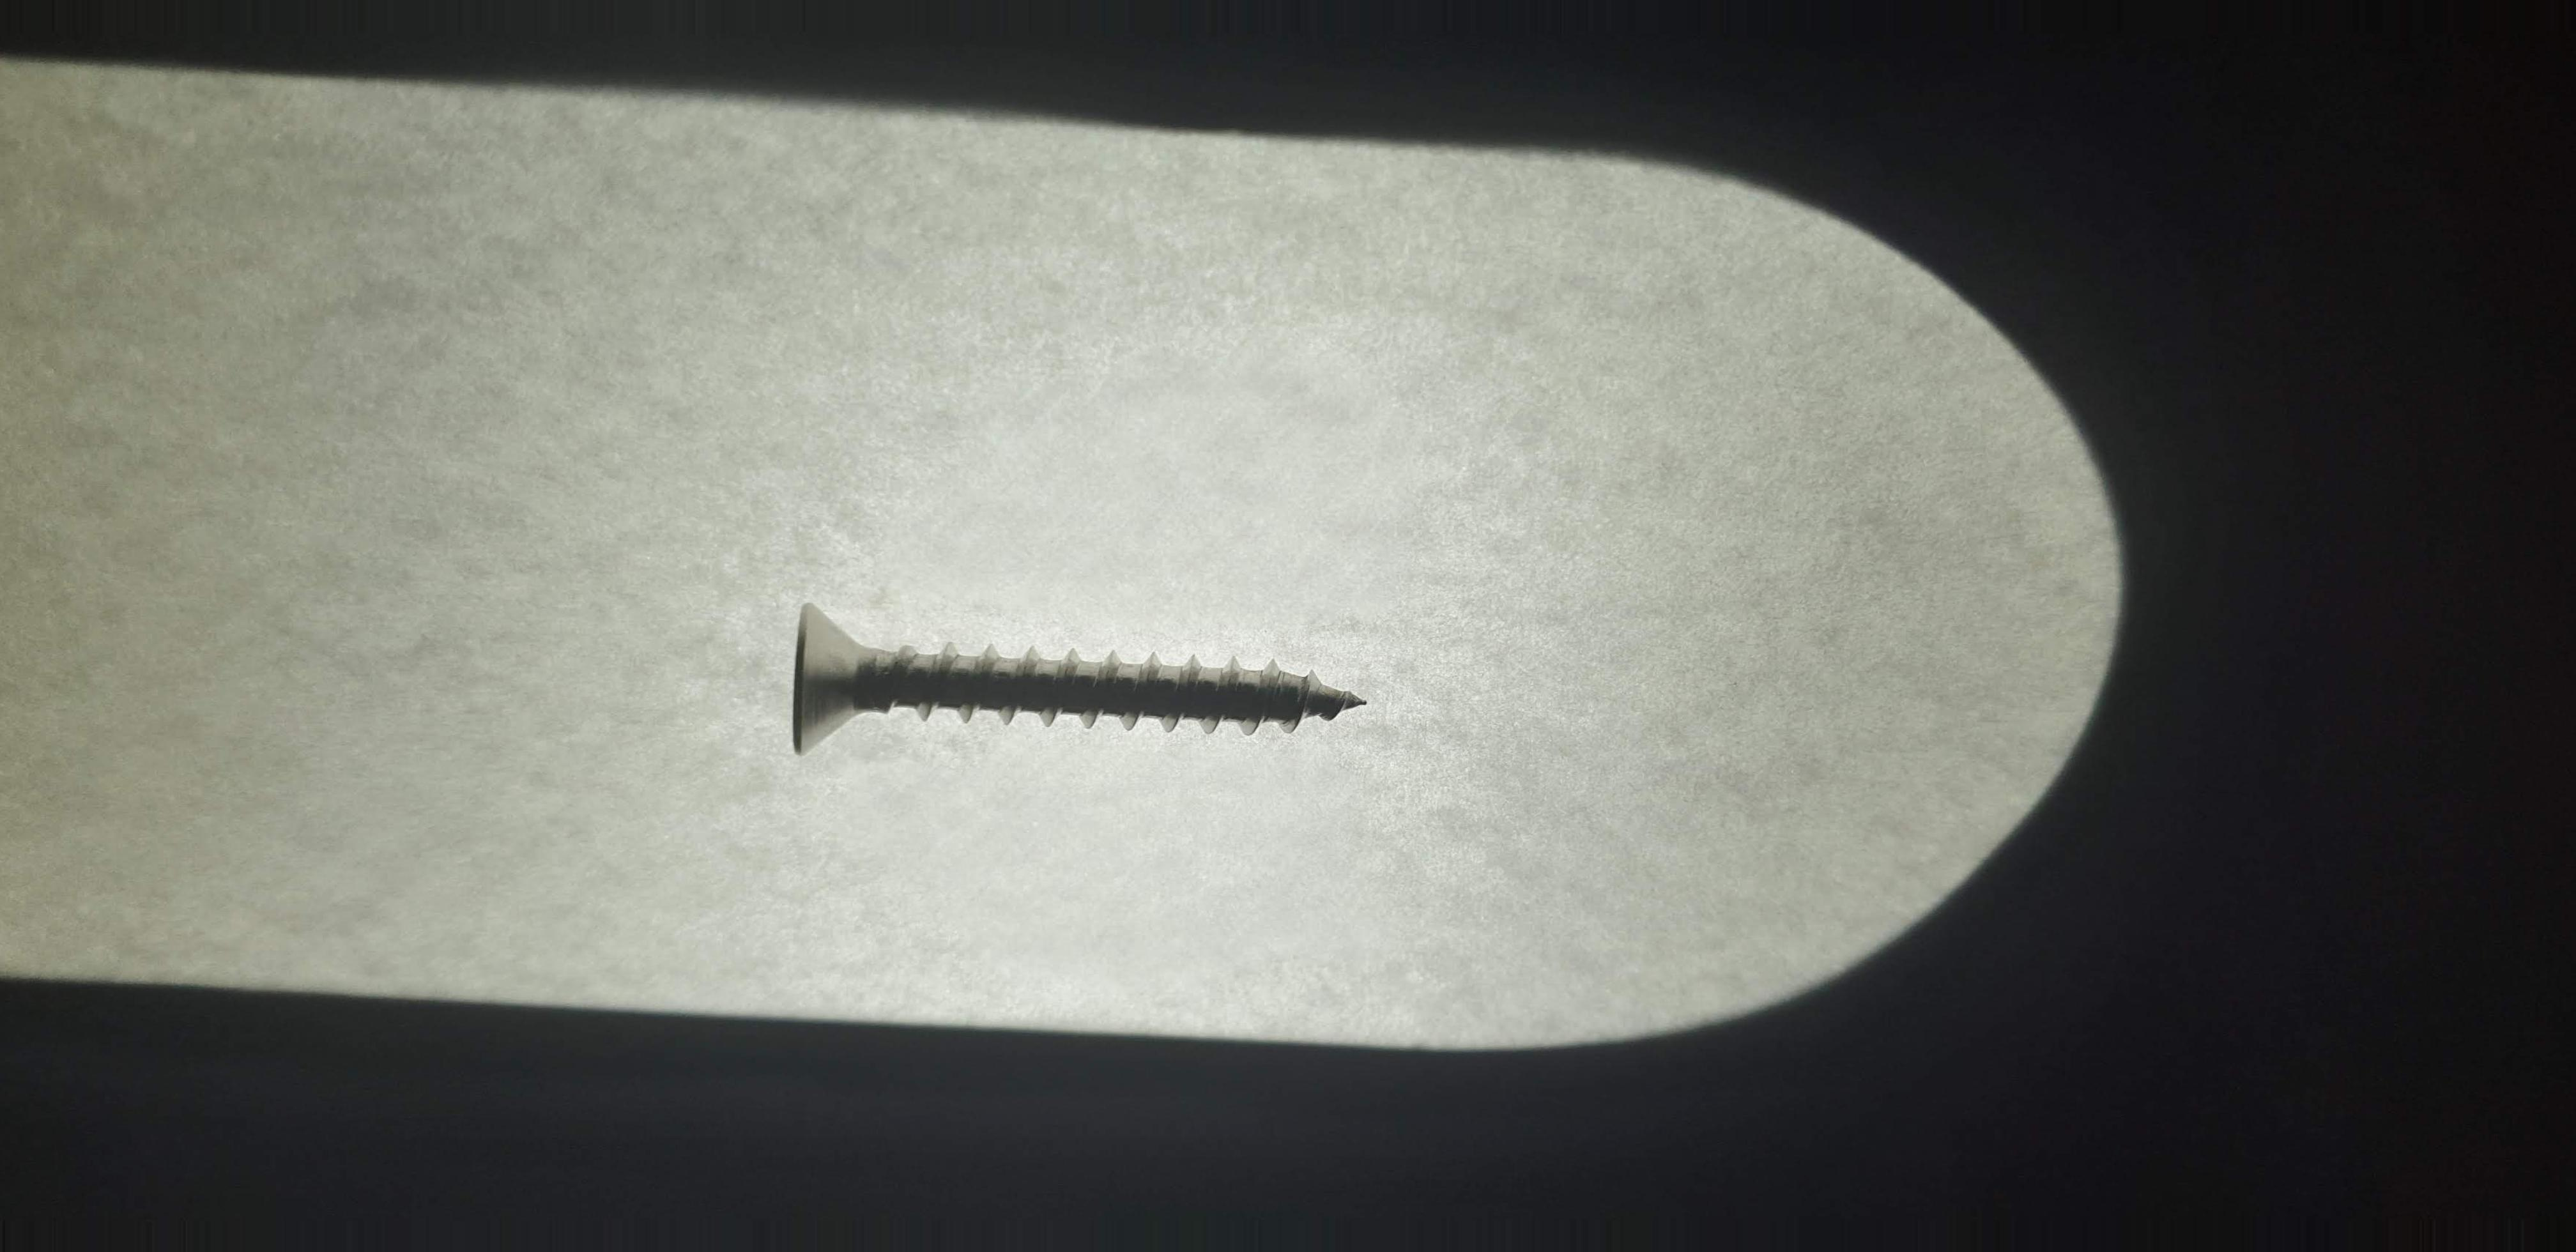S004: (674, 555, 1426, 799)
